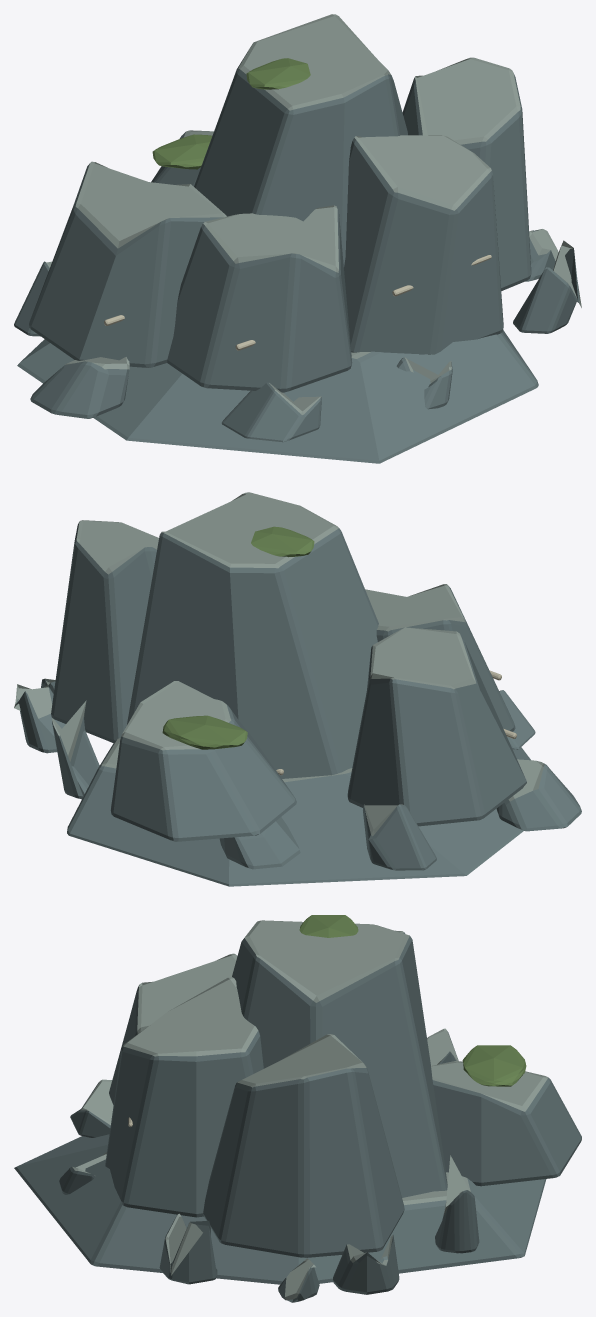
The model's file is stone_outcrop_b.glb.
The picture shows the model from 3 angles, top to bottom: view 1: azimuth 30°, elevation 25°; view 2: azimuth 150°, elevation 25°; view 3: azimuth 270°, elevation 25°; orthographic projection. The views are drawn at different scales.
Parts seen in each view (by area): view 1: FracturedMass.005, FracturedMass.047, FracturedMass.049, FracturedMass.045, FracturedMass.046, FracturedMass.050, MossShelf.021, MossShelf.020, FracturedMass.048; view 2: FracturedMass.045, FracturedMass.005, FracturedMass.046, FracturedMass.048, FracturedMass.050, FracturedMass.049, MossShelf.021, MossShelf.020; view 3: FracturedMass.005, FracturedMass.050, FracturedMass.045, FracturedMass.047, FracturedMass.048, FracturedMass.049, MossShelf.021, MossShelf.020.
Boxes of the visible parts, box(x1,y1,x2,y2) form: FracturedMass.005: box(14, 229, 581, 463); FracturedMass.047: box(344, 135, 503, 354); FracturedMass.049: box(167, 205, 352, 392); FracturedMass.045: box(194, 14, 407, 266); FracturedMass.046: box(29, 161, 226, 367); FracturedMass.050: box(402, 57, 531, 290); MossShelf.021: box(152, 134, 212, 169); MossShelf.020: box(246, 58, 310, 89); FracturedMass.048: box(151, 130, 213, 186); FracturedMass.045: box(127, 492, 378, 778); FracturedMass.005: box(14, 678, 581, 886); FracturedMass.046: box(347, 627, 526, 826); FracturedMass.048: box(110, 681, 296, 841); FracturedMass.050: box(51, 520, 158, 742); FracturedMass.049: box(365, 584, 515, 731); MossShelf.021: box(162, 715, 247, 749); MossShelf.020: box(251, 526, 314, 557); FracturedMass.005: box(14, 1028, 546, 1302); FracturedMass.050: box(203, 1034, 404, 1257); FracturedMass.045: box(232, 920, 447, 1197); FracturedMass.047: box(105, 977, 263, 1217); FracturedMass.048: box(431, 1061, 581, 1186); FracturedMass.049: box(109, 953, 237, 1105); MossShelf.021: box(462, 1045, 526, 1086); MossShelf.020: box(299, 915, 358, 937).
Bounding box in the file's own units: 2.48 × 1.22 × 2.24.
